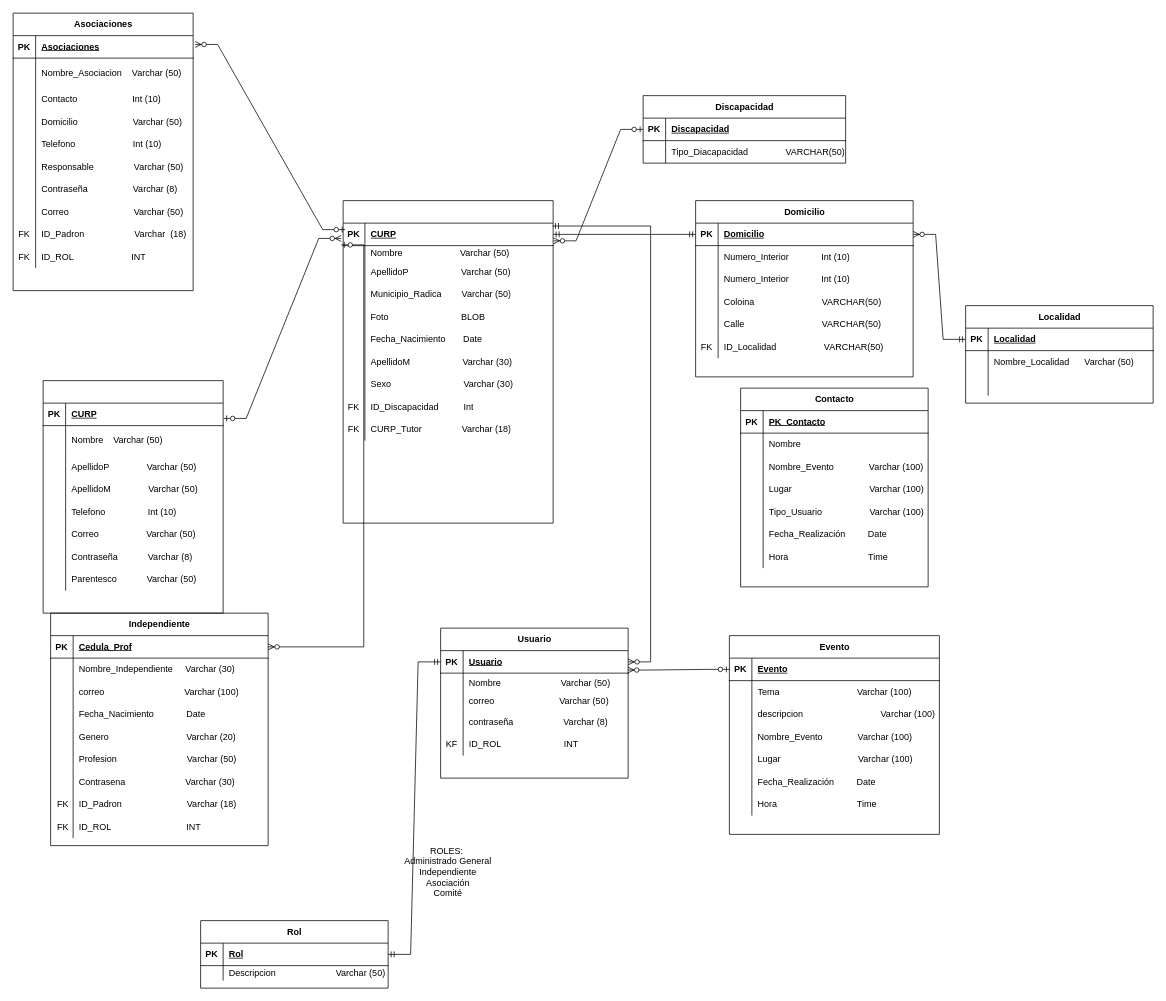
This 1166x1001 diagram has some shape labels left out. The shapes that lost their labels are listed below. From the top down, each one's box as (x1, y1, x2, y2) in pixels, then its label:
(342, 200, 553, 523): Padron
(42, 380, 223, 613): Tutor
